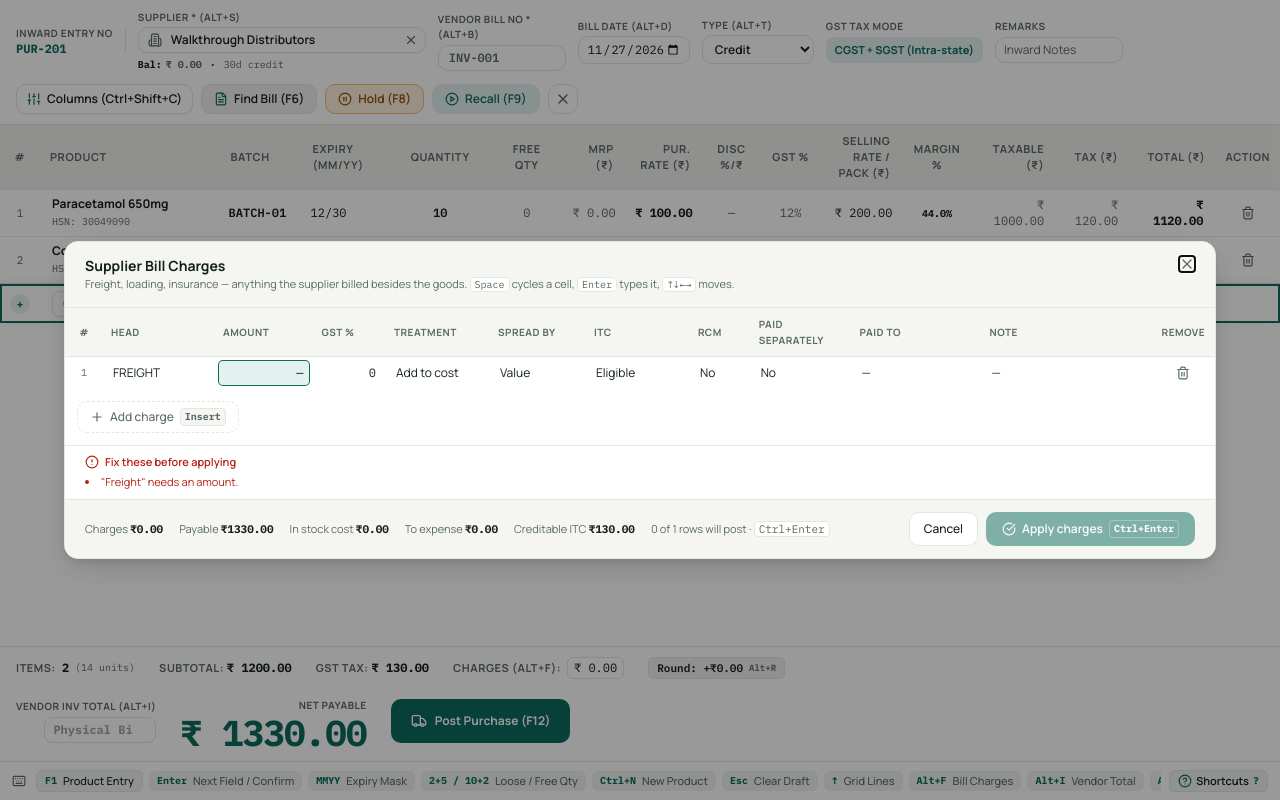
Scenario: purchase voucher printing on the entry screen (PRN-007) › hands the printed voucher the charge row the grid keyed and the payable it foots to
The width and height of the screenshot is (1280, 800).
Earlier steps of the test are not shown.
Later steps or results of the test are not shown.
Check: the text "FREIGHT" is shown, box [113,364,160,381]
Press Enter in the button named "Close", box [1179,256,1195,272]
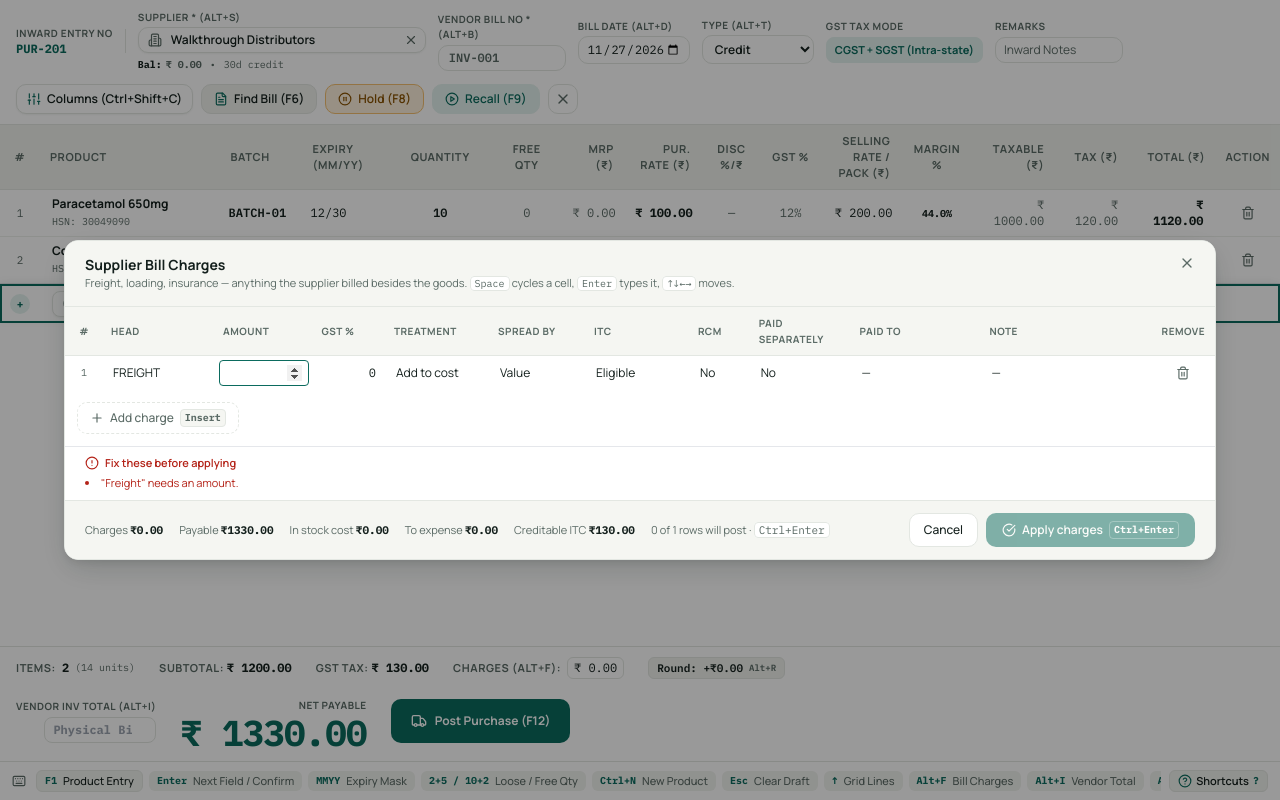
Check: the number field is shown
In the number field: [264, 373] box [219,360,310,386], type "200"
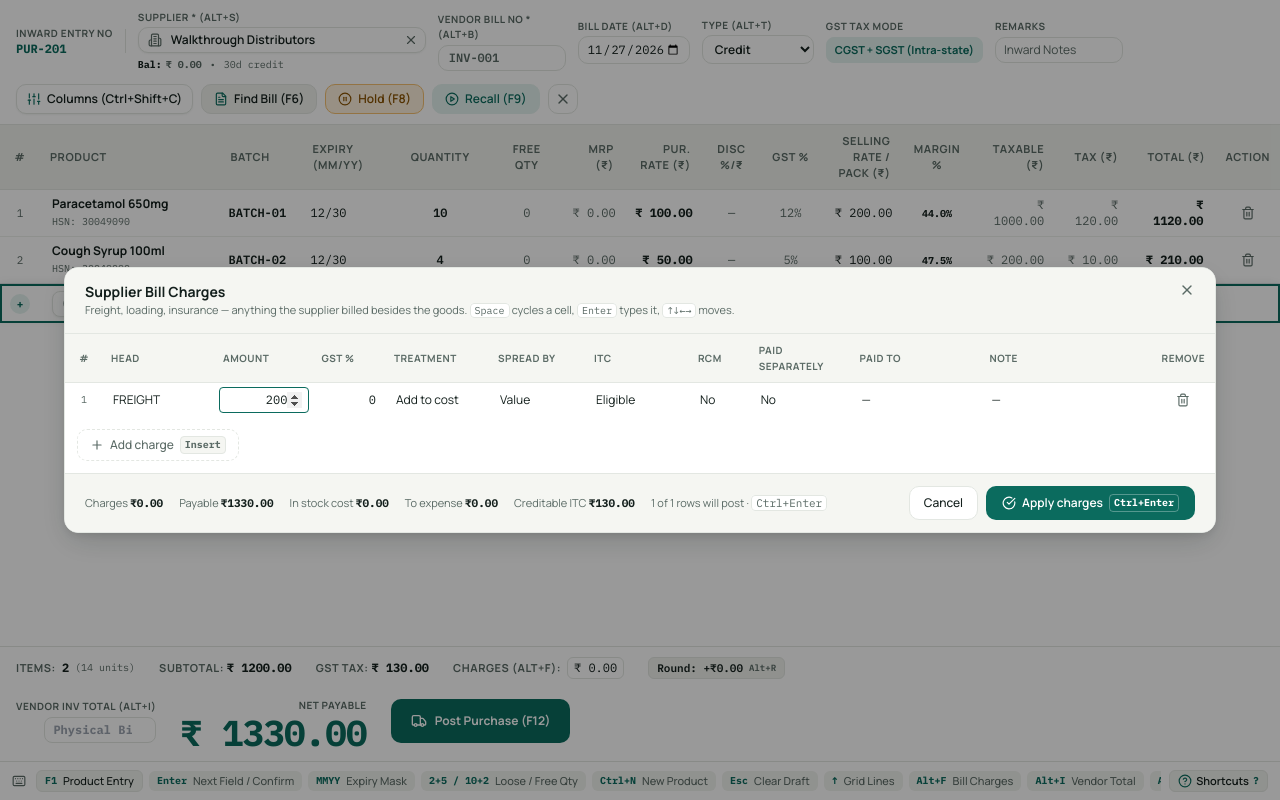
Press Enter in the number field, box [219,387,310,413]
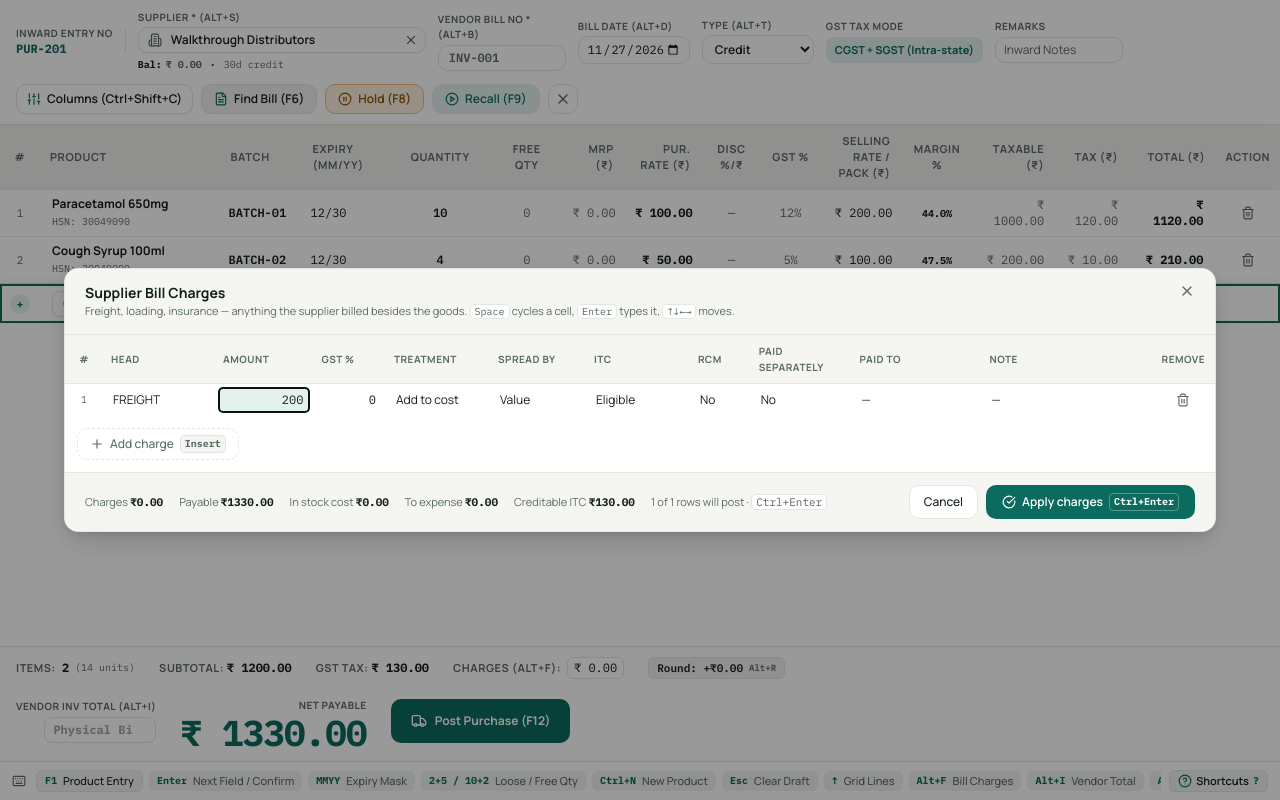
Press Enter in the text "200", box [219,388,310,412]
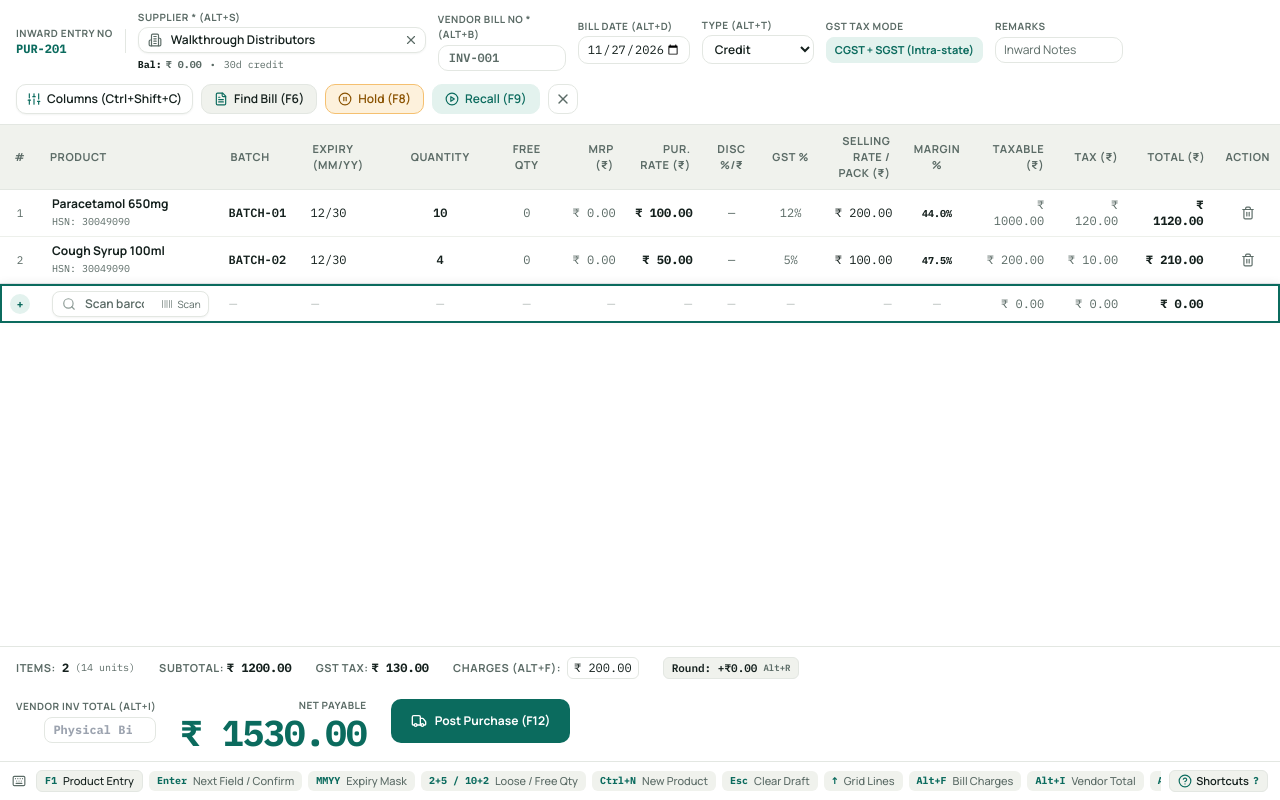
Press b
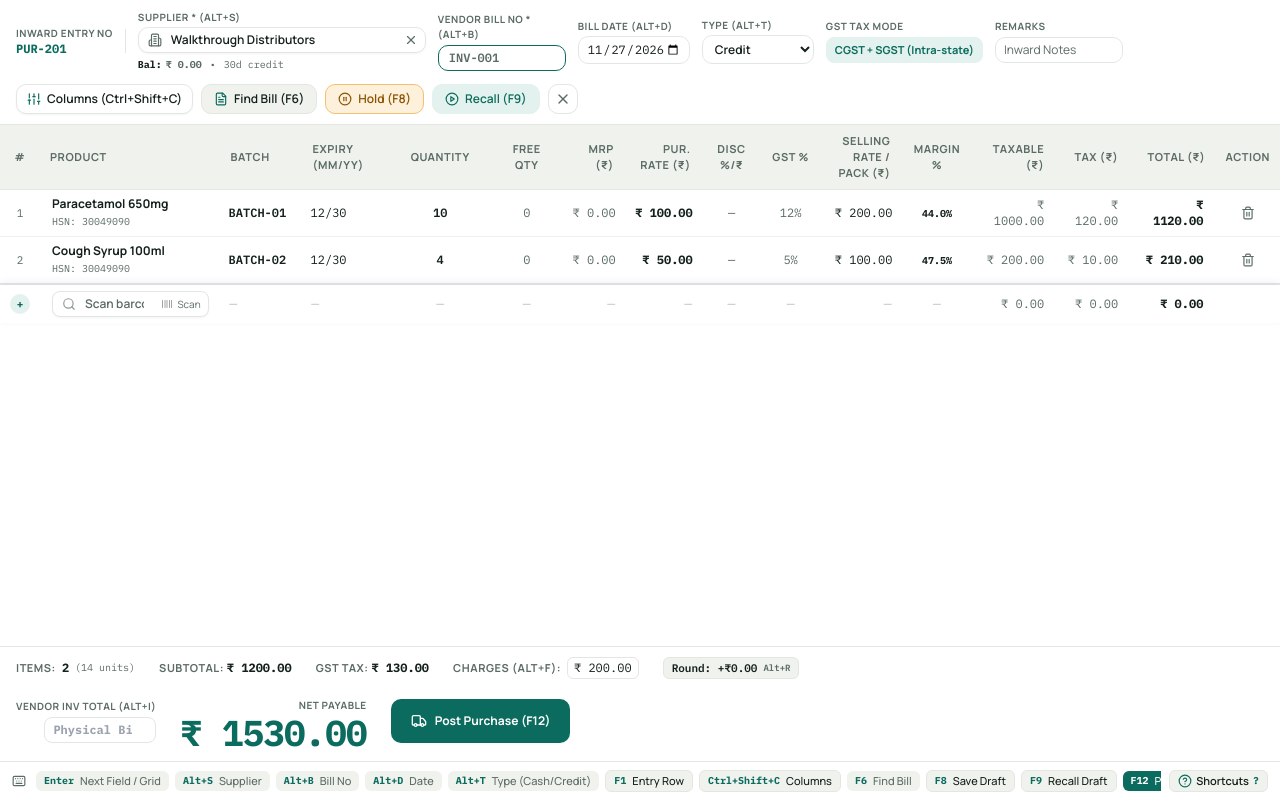
In the field with placeholder "INV-001": [502, 58] box [438,44,566,70], type "INV-77"
Press F12 in the 1st field, box [438,44,566,70]
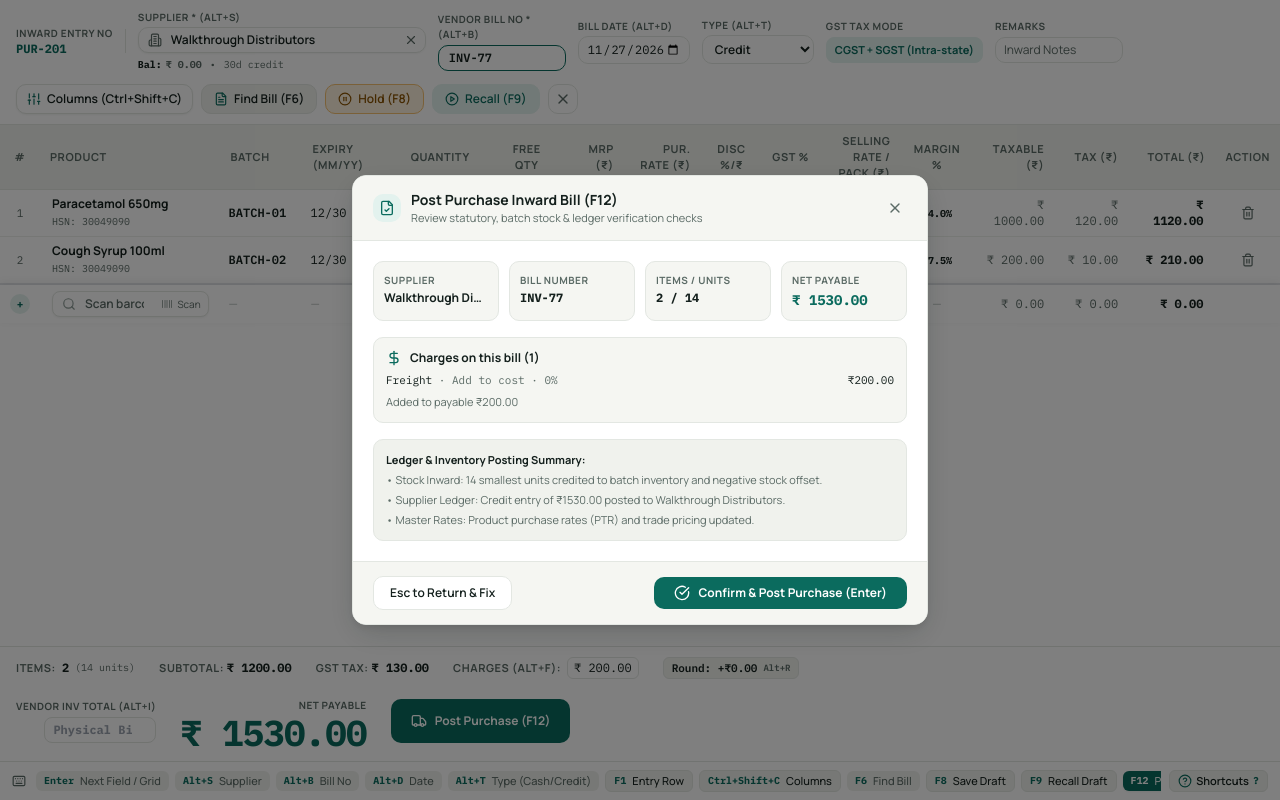
Check: the heading "Post Purchase Inward Bill (F12)" is shown, box [411,190,618,209]
